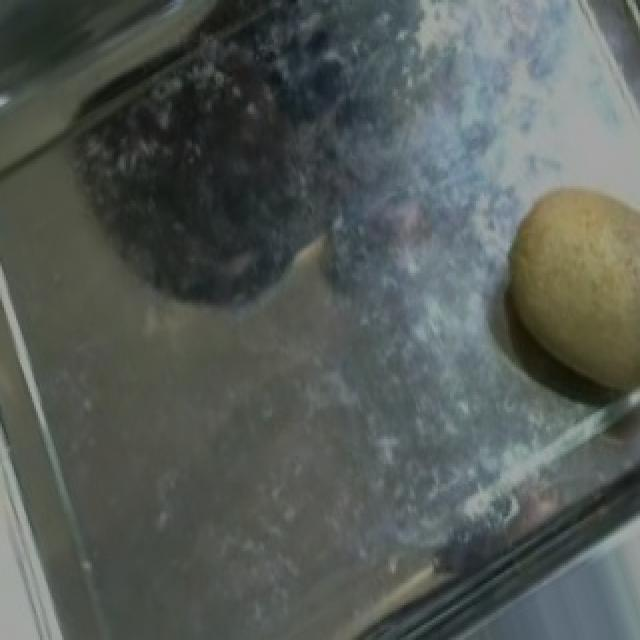Fruit: (474, 146, 640, 417)
